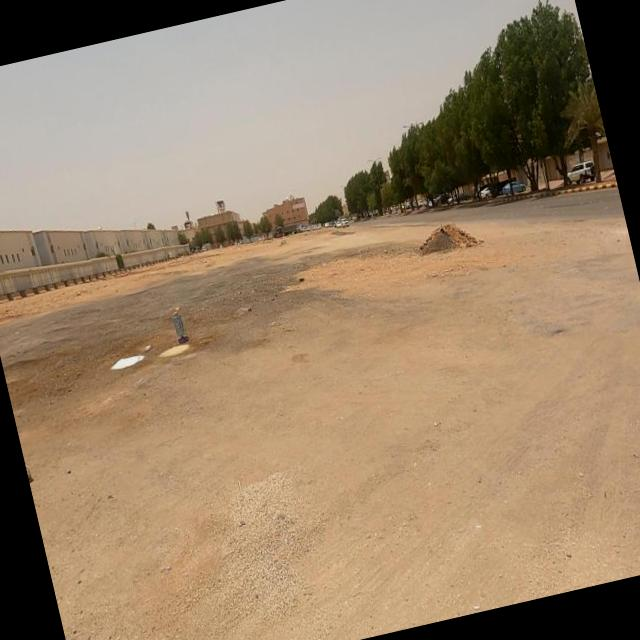debris: (146, 276, 216, 394)
